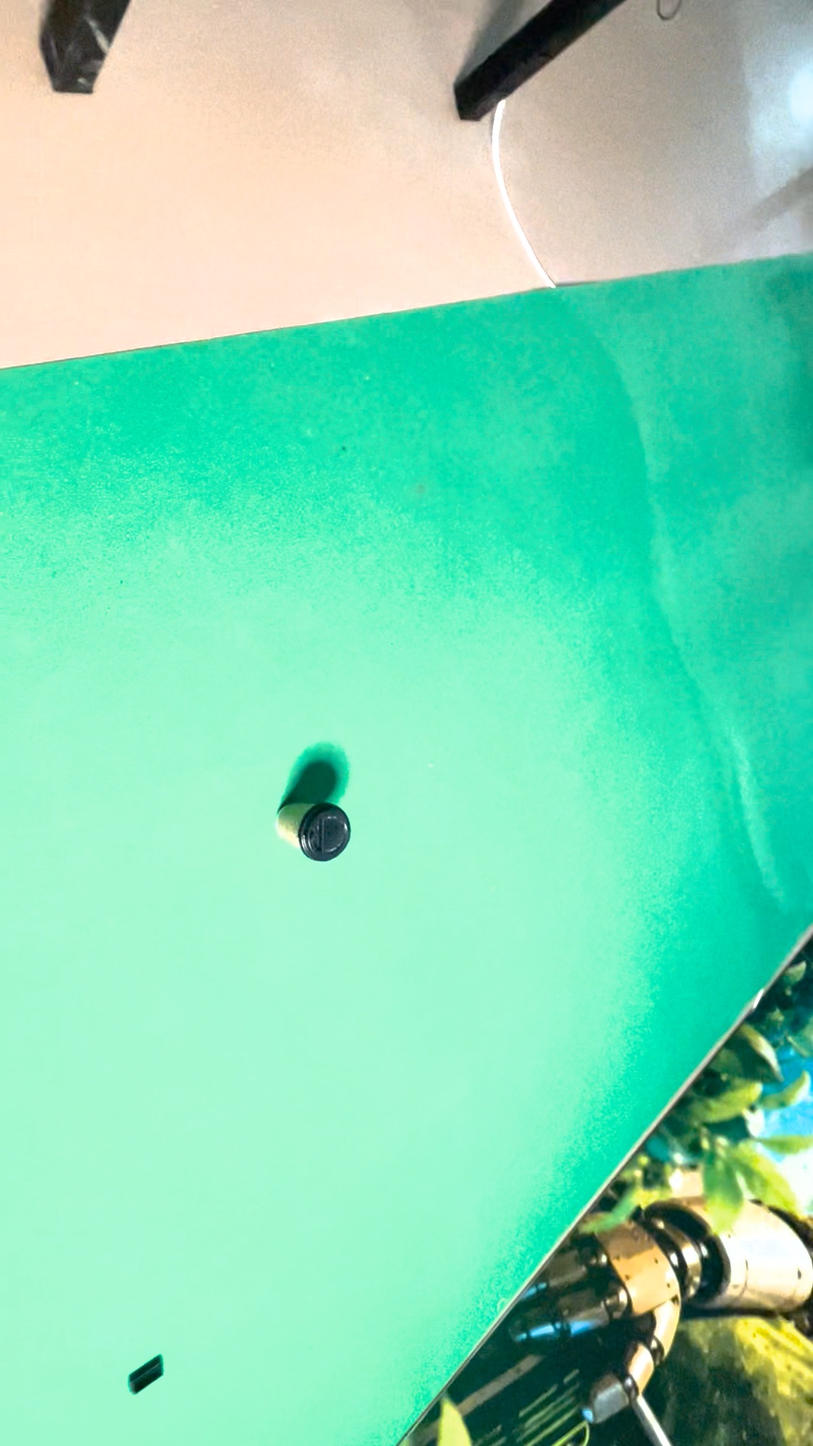cup: (444, 558, 529, 971)
